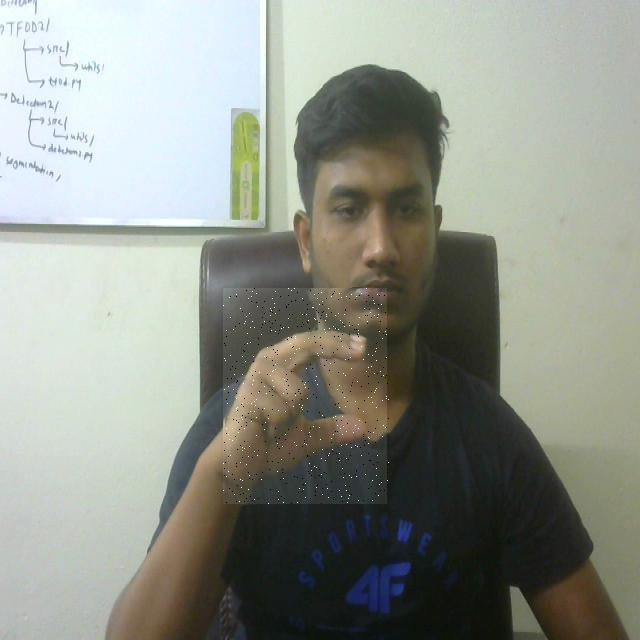No: (223, 288, 390, 504)
